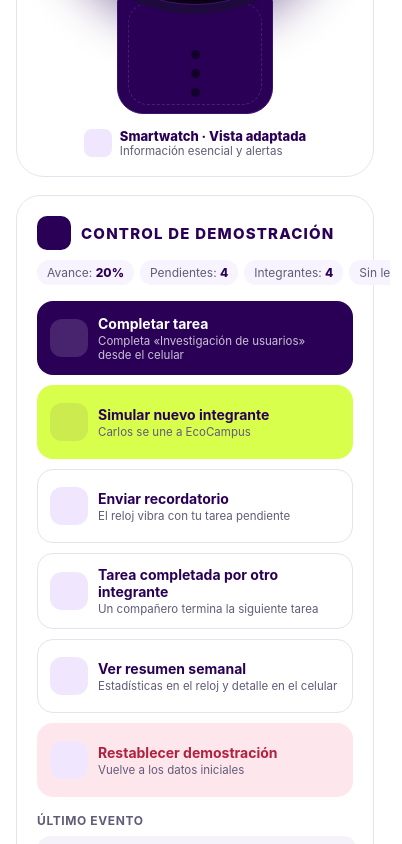
Test: panel: nuevo integrante y resumen semanal en ambos dispositivos
(page scrolled)
Click the button with test id "control_member" at (195, 422), box 37,385 -> 353,459
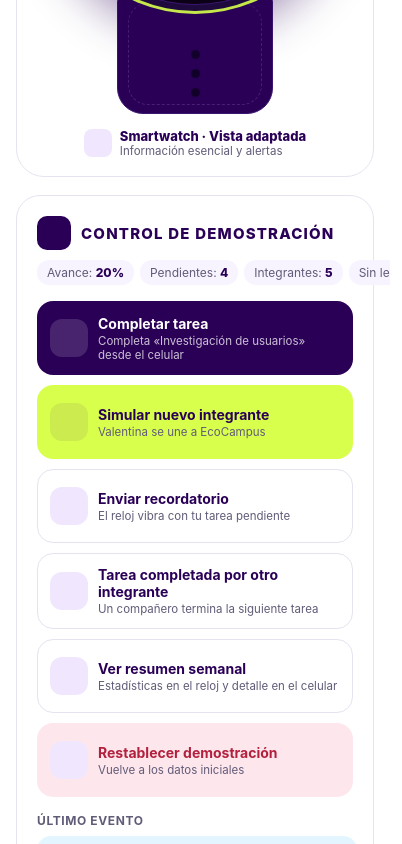
Check: the text with test id "panel_stat_Integrantes" reads "5", box 325,265 -> 333,280
Click the button with test id "control_summary" at (195, 676), box 37,639 -> 353,713
(page scrolled)
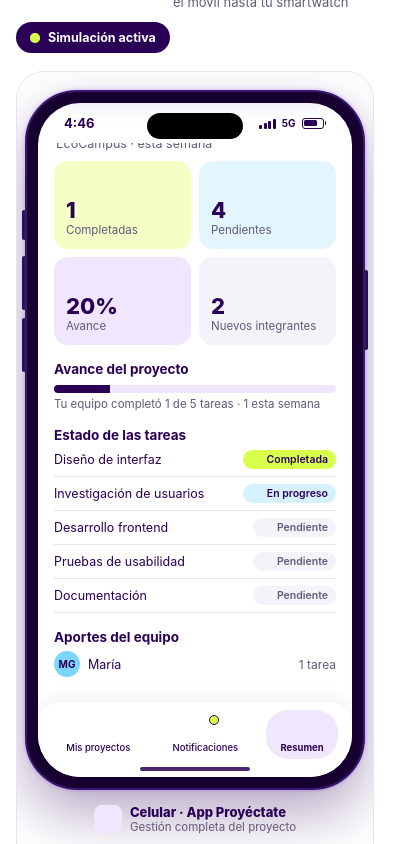
Check: the element with test id "phone_summary" is shown, box 54,161 -> 336,683
